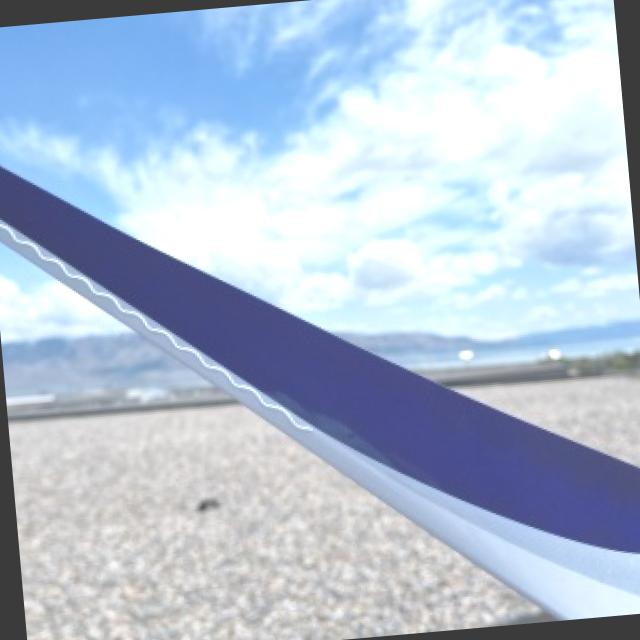healthy: (0, 164, 640, 618), (529, 456, 640, 539)
